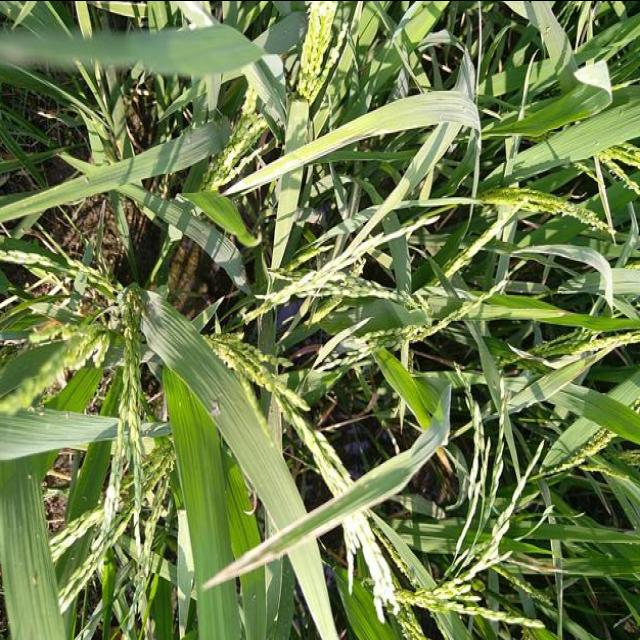Leaf Blight: (200, 383, 451, 588), (219, 90, 479, 195), (334, 174, 409, 263), (506, 342, 582, 369), (506, 551, 559, 571)
